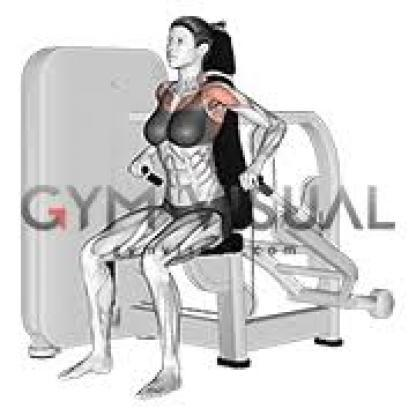seated dip machine: (13, 7, 396, 402)
